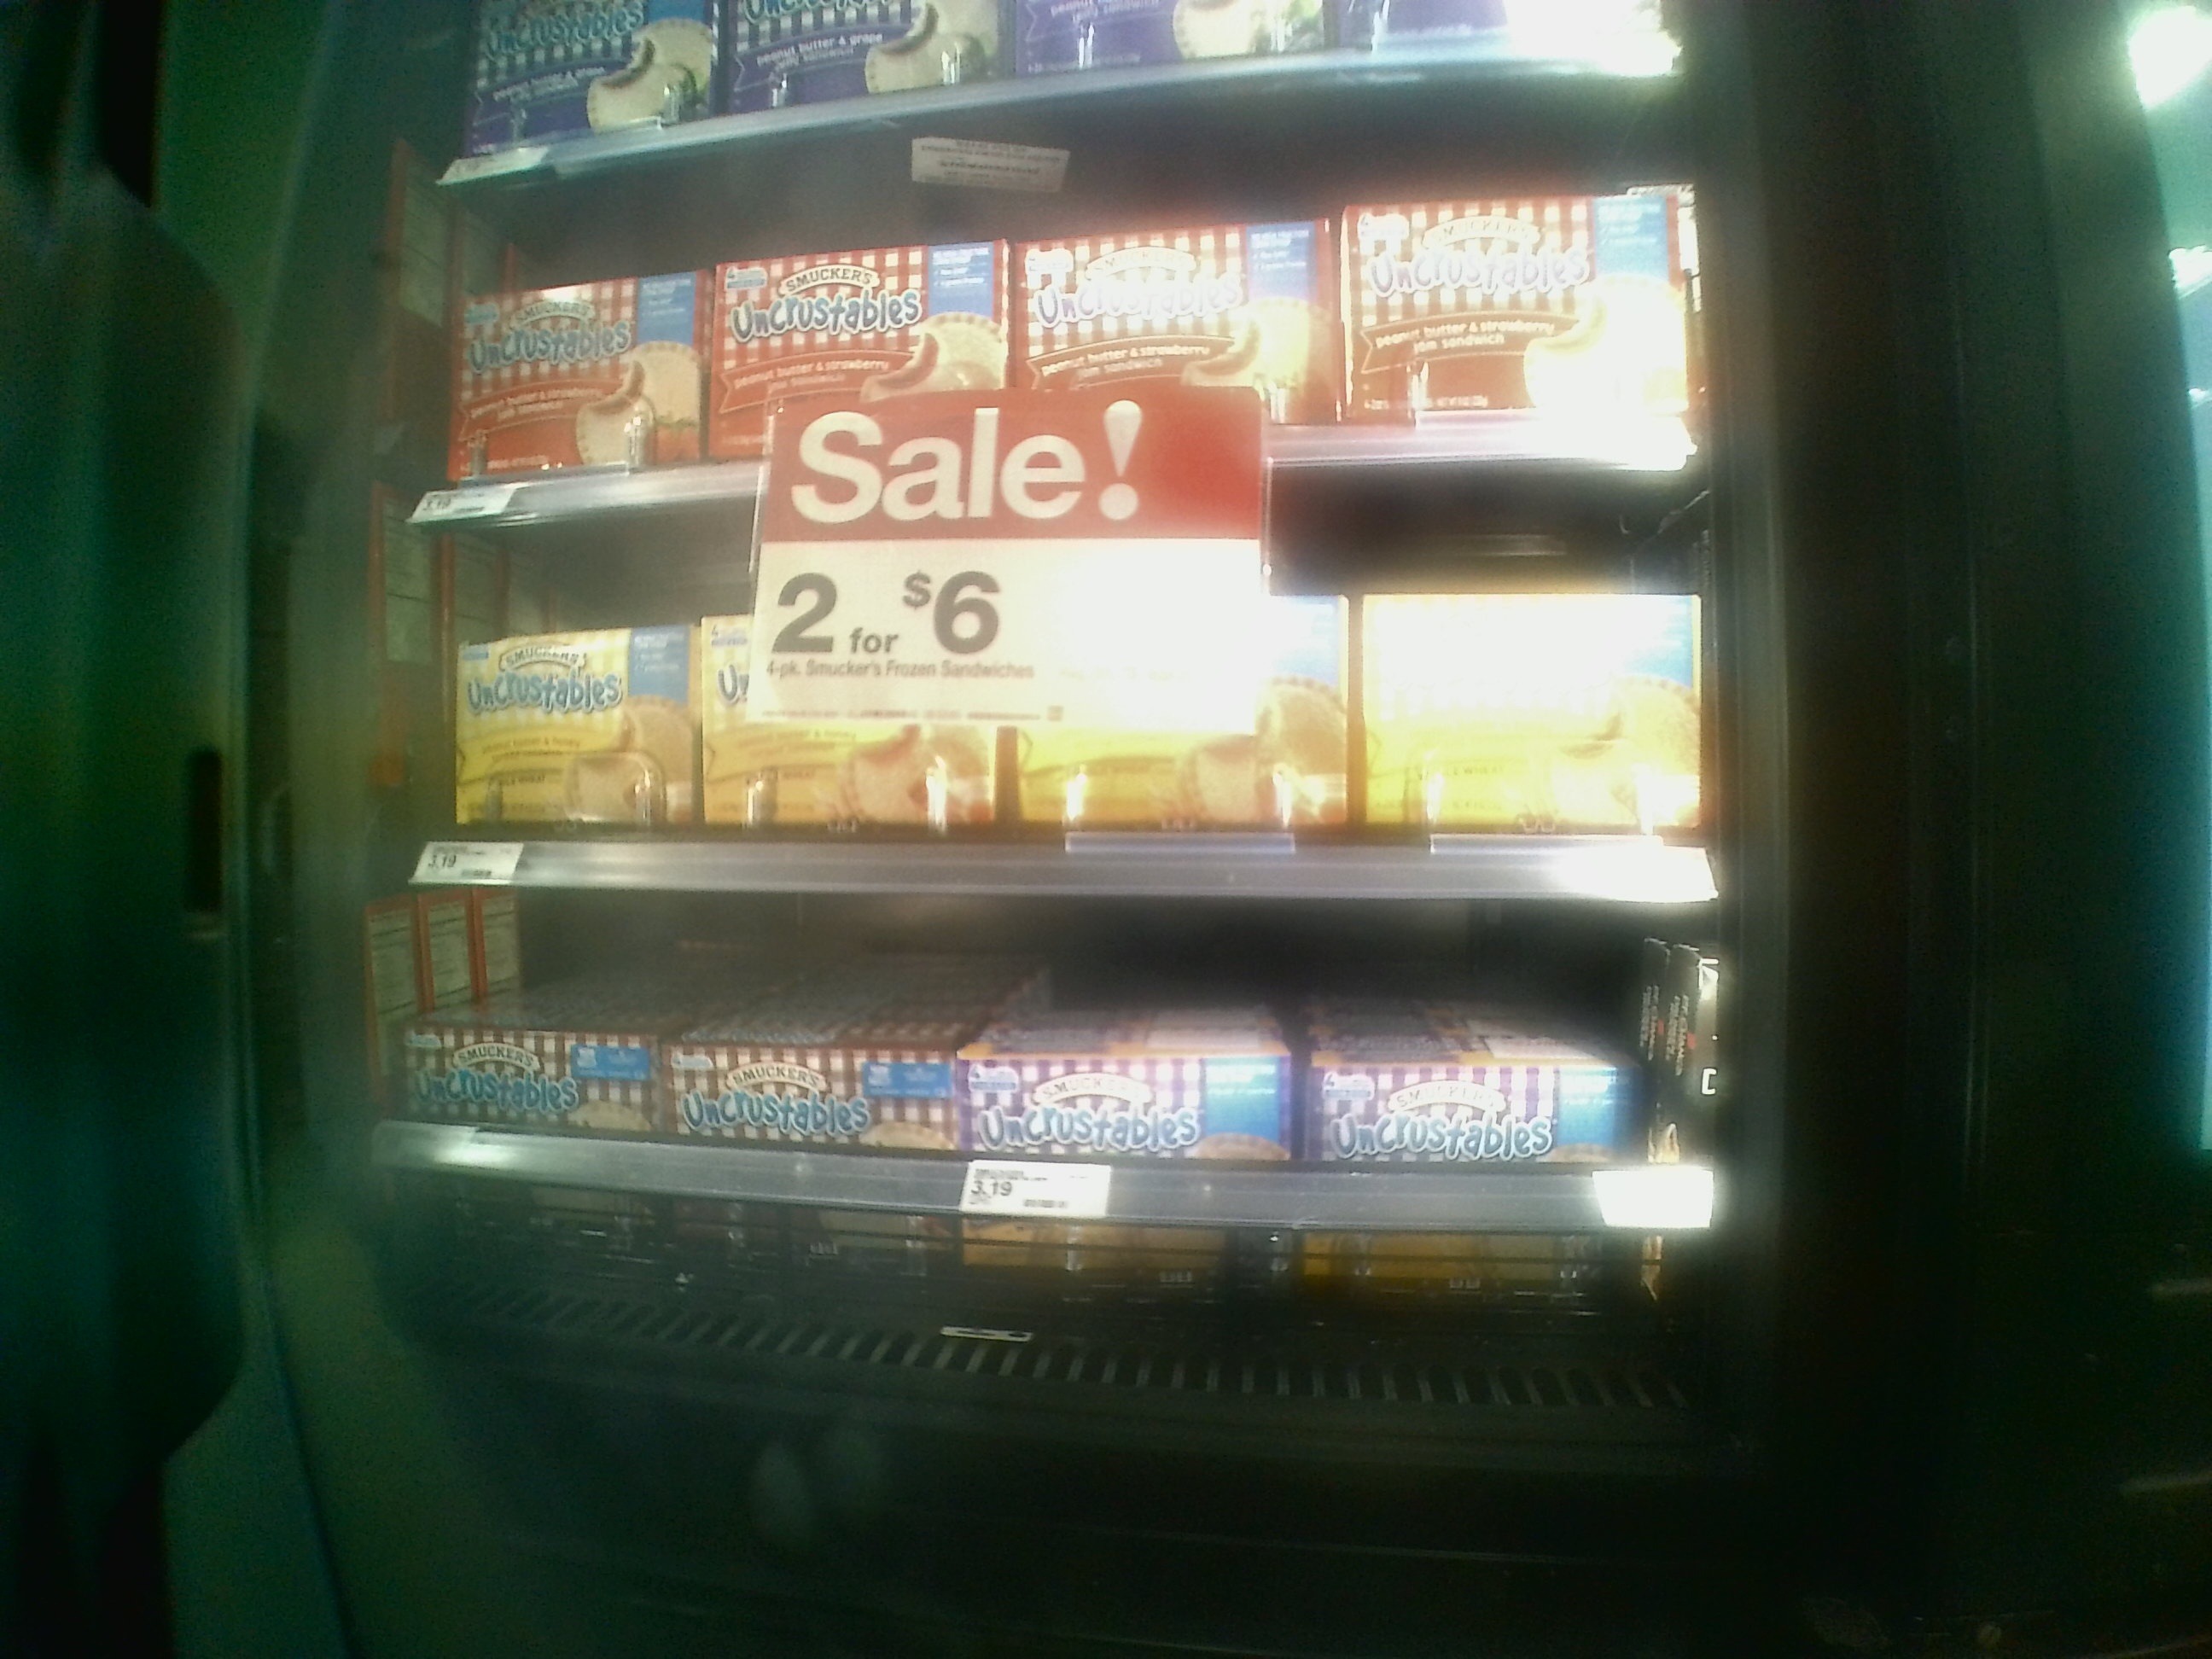shelf: (402, 890, 1698, 1396), (408, 484, 1719, 911), (413, 179, 1712, 467)
